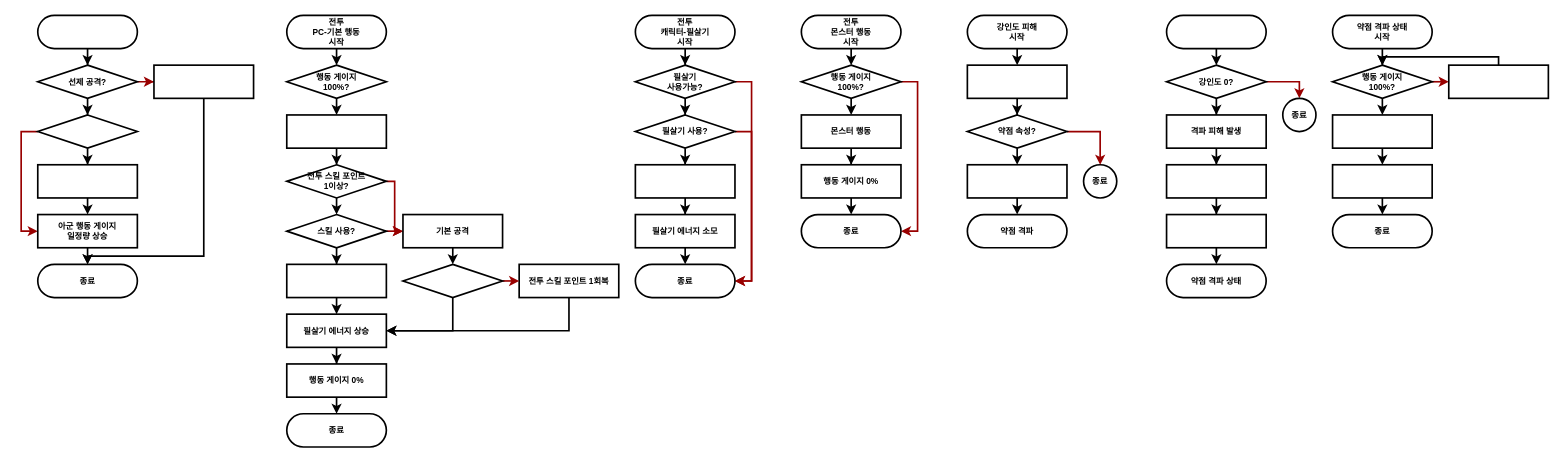
This 1563x461 diagram has some shape labels left out. Here are the shapes that lost their labels. From the top down, the centre of each, then its label:
At (x=87, y=31): "전투-개시 시작".
At (x=1216, y=31): "약점 격파 시작".
At (x=203, y=81): "적 행동 게이지 일정량 상승".
At (x=1016, y=81): "데미지 발생".
At (x=1498, y=81): "약점 격파 상태 지속".
At (x=87, y=131): "악점 공격?".
At (x=336, y=131): "캐릭터 행동".
At (x=1382, y=131): "강인도 최대치로 회복".
At (x=87, y=181): "적에게 피해".
At (x=684, y=181): "필살기 발동".
At (x=1016, y=181): "강인도 감소".
At (x=1216, y=181): "행동 게이지 25% 감소".
At (x=1382, y=181): "약점 격파 상태 회복".
At (x=1216, y=230): "속성별 디버프 발생".
At (x=336, y=280): "스킬 사용".
At (x=452, y=280): "전투 스킬 포인트 최대치?".
